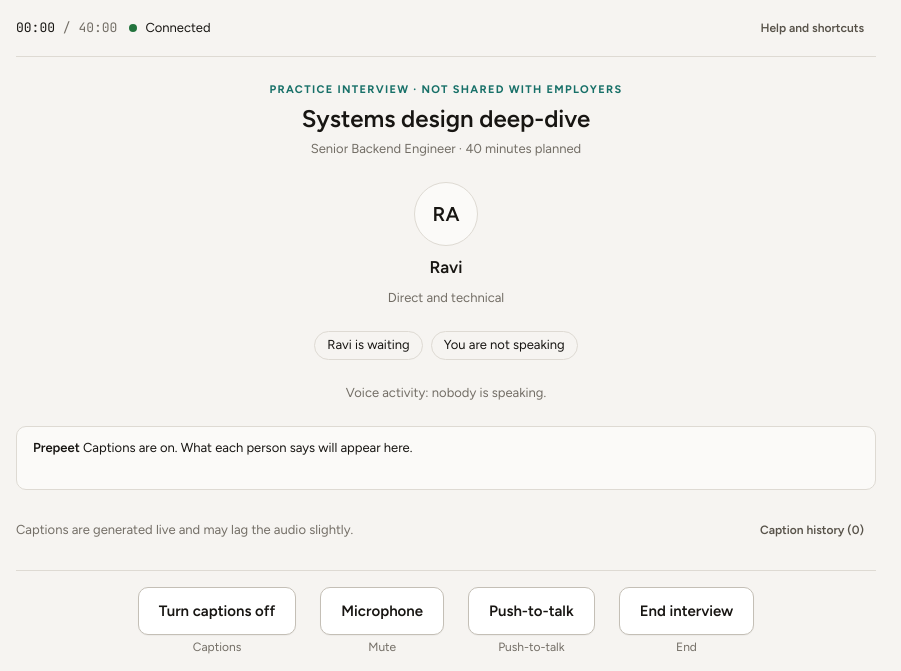
Test: the framing › scores nothing, and the help panel says so in words
Click the button "Help and shortcuts". click: (812, 28)
box: [748, 12, 876, 44]
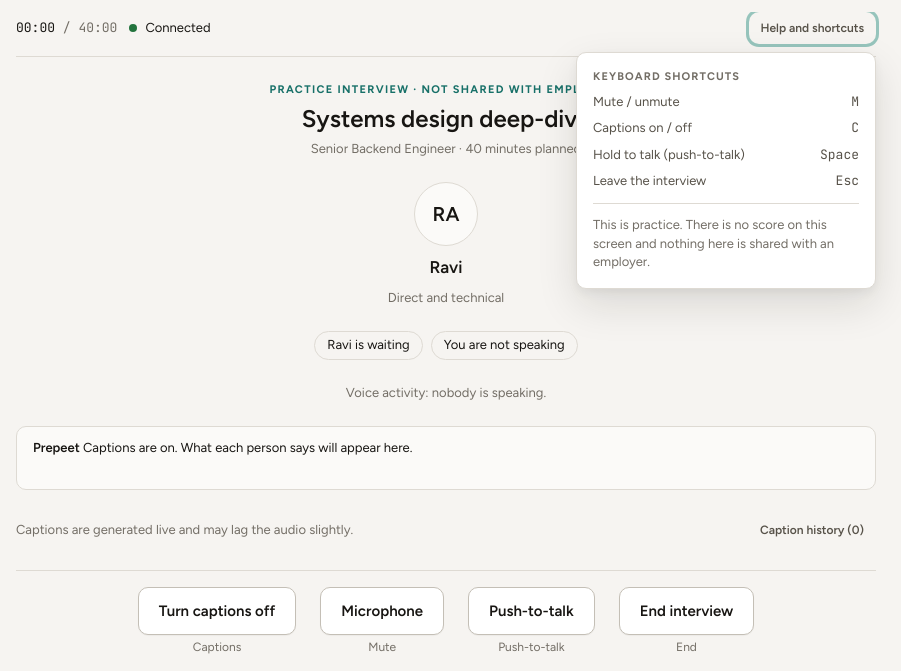
Expected: the text "There is no score on this screen" is shown, [593, 217, 834, 269]
